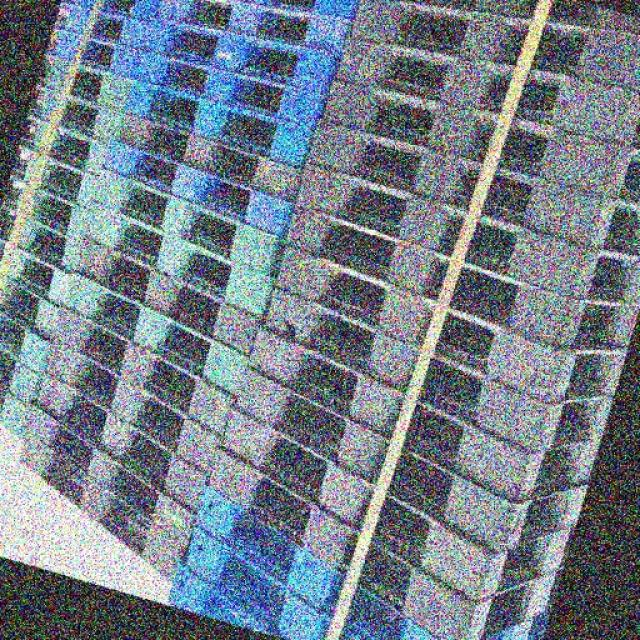non-igps: (163, 0, 640, 640), (15, 0, 368, 585), (0, 0, 170, 449)
